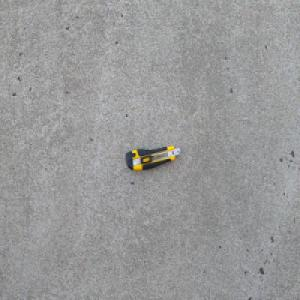Cutter: (124, 144, 181, 170)
